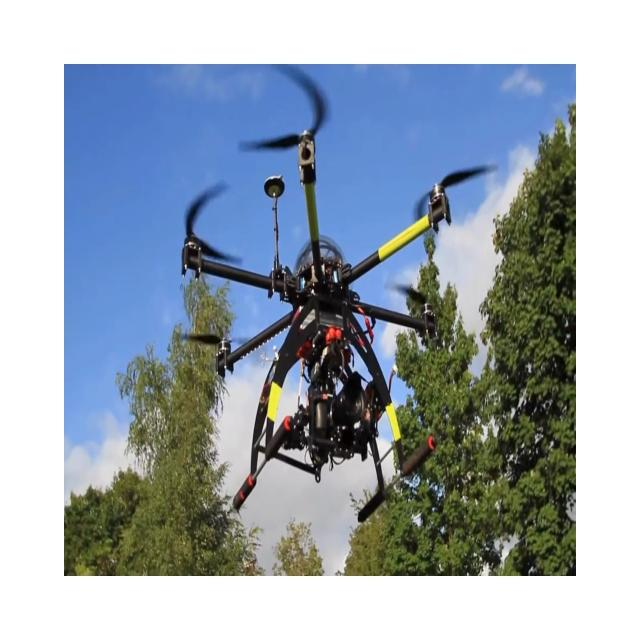drone: (179, 65, 499, 523)
